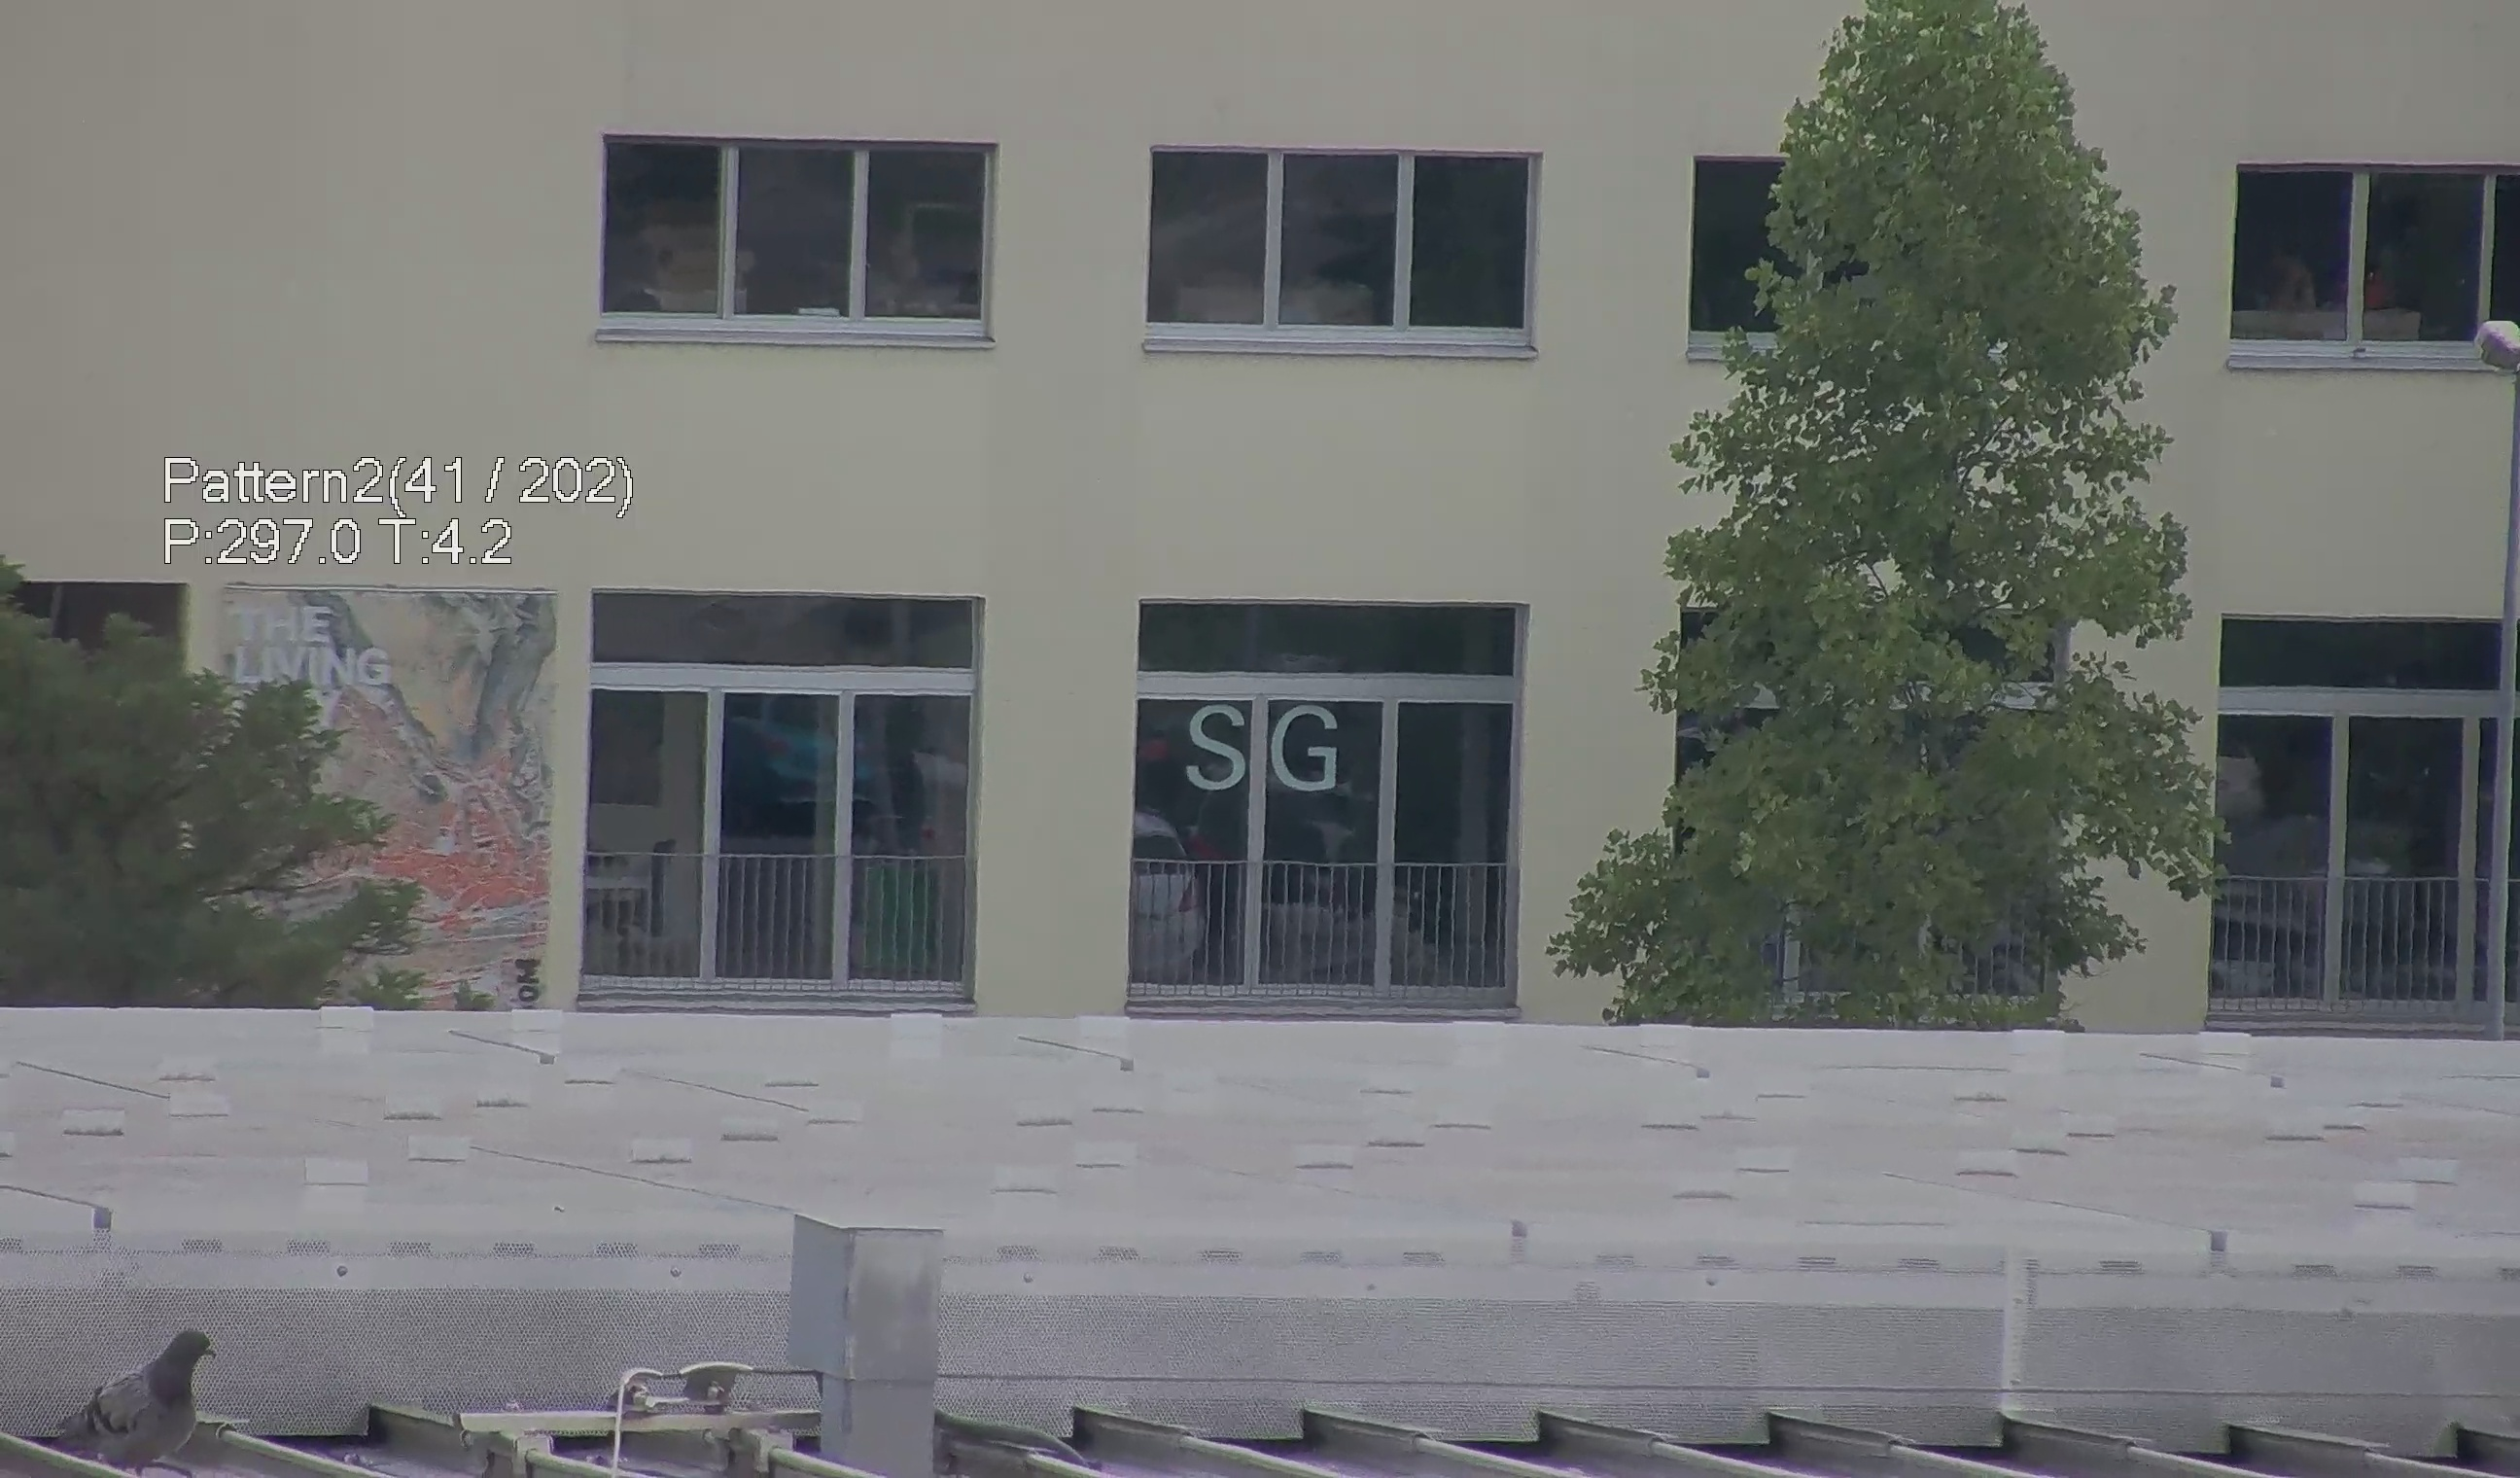Pigeon: (53, 1318, 236, 1478)
